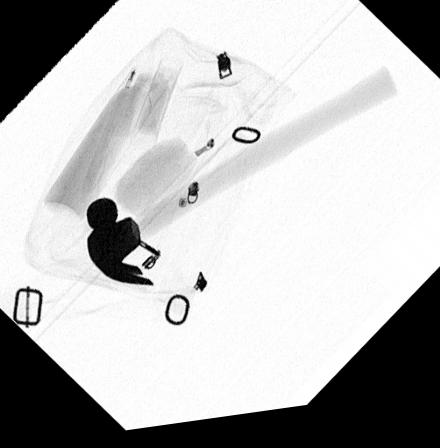Hammer: (85, 75, 395, 289)
